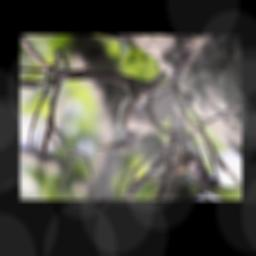Cuckoo: (94, 46, 193, 156)
